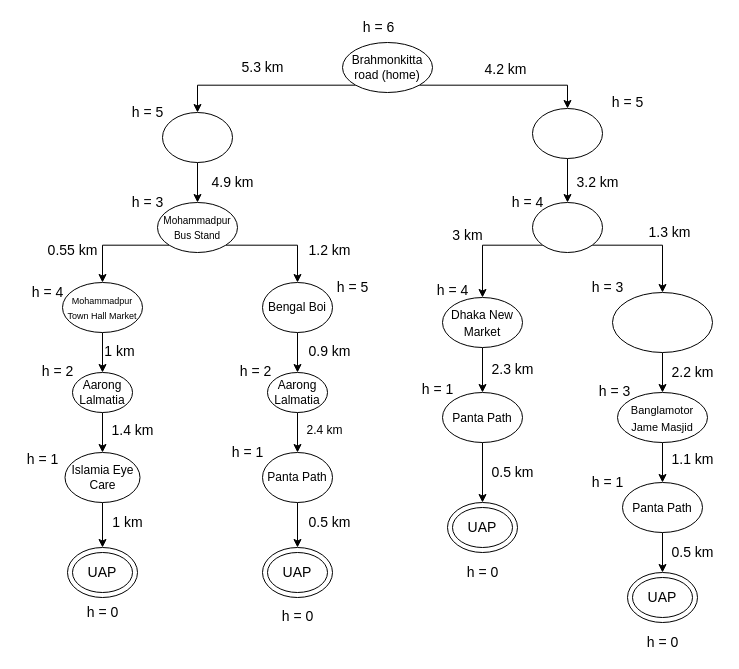
Some shapes in this 739 by 669 pixel diagram are drawn without their labels. Each missing label, with the centre of its shape:
"Ati Bazar Brizde" goes at [197,137].
"Bongo Bazar" goes at [567,227].
"Keraniganj" goes at [567,133].
"Ramna Petrol Pump & Service Station" goes at [662,322].
